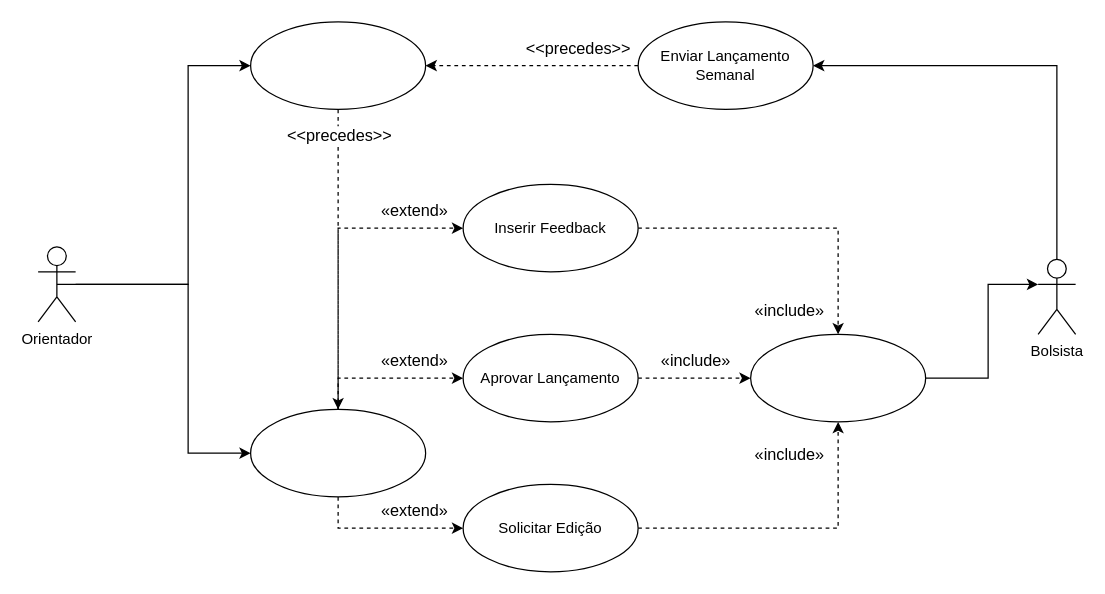
Image size: 1105x594. Some labels were removed from this diagram. Here are the shapes that lost their labels. From the top down, the box of each, then its label:
(249, 21, 426, 109): Visualizar Submissões Pendentes
(749, 333, 926, 422): Enviar Notificação
(249, 408, 426, 497): Avaliar Lançamento
